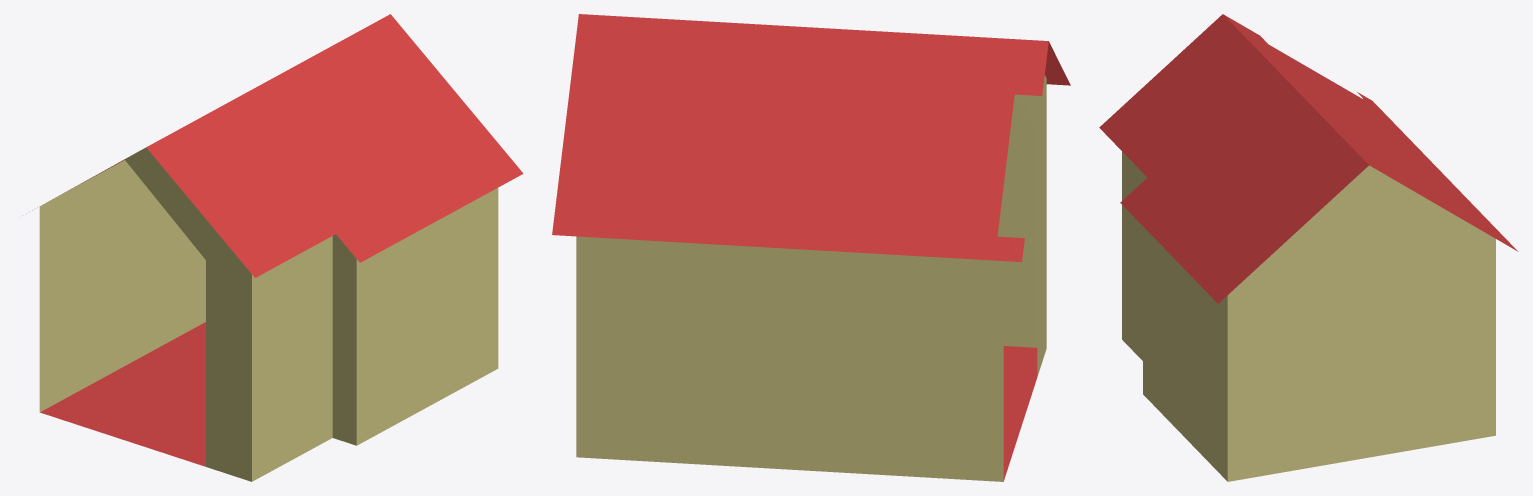
3 renders of one model, left to right at view 1: azimuth 30°, elevation 25°; view 2: azimuth 150°, elevation 25°; view 3: azimuth 270°, elevation 25°, orthographic. The views are drawn at different scales.
Bounding box in the file's own units: 20.55 × 17.93 × 14.16.
